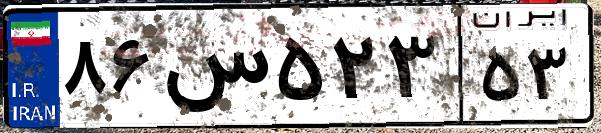2: (330, 28, 385, 110)
3: (385, 28, 445, 110), (525, 38, 570, 115)
5: (270, 28, 330, 110), (475, 38, 525, 113)
6: (110, 28, 158, 98)
8: (57, 26, 110, 100)
س: (158, 20, 270, 120)
